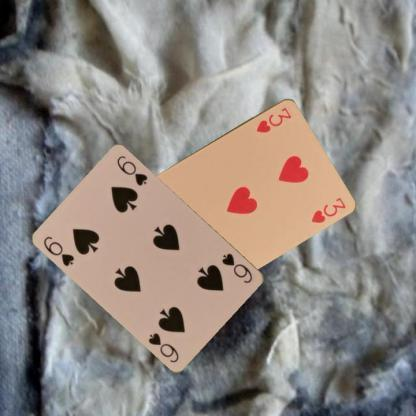3h: (254, 104, 294, 134)
6s: (219, 250, 254, 285), (41, 233, 76, 268)
